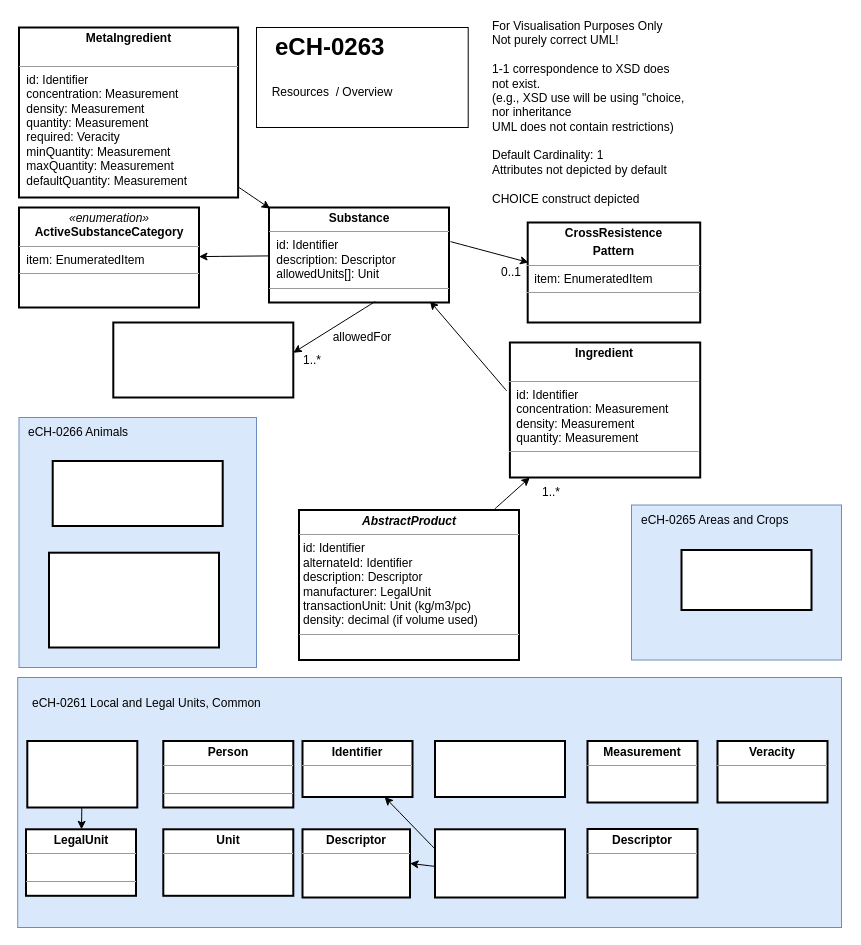
The diagram is 861 pixels wide and 945 high, and some of its shapes have lost their labels. Here are the shapes that lost their labels. From the top down, the centre of each, then its label:
At point 203,359: "ProductFamily + item: EnumeratedItem".
At point 137,493: "ZoologicalAnimal".
At point 134,599: "«enumeration» Utilisation + item: EnumeratedItem".
At point 746,579: "BotanicalPlant".
At point 82,774: "LocalUnit".
At point 500,769: "Validity".
At point 500,863: "EnumeratedItem".
